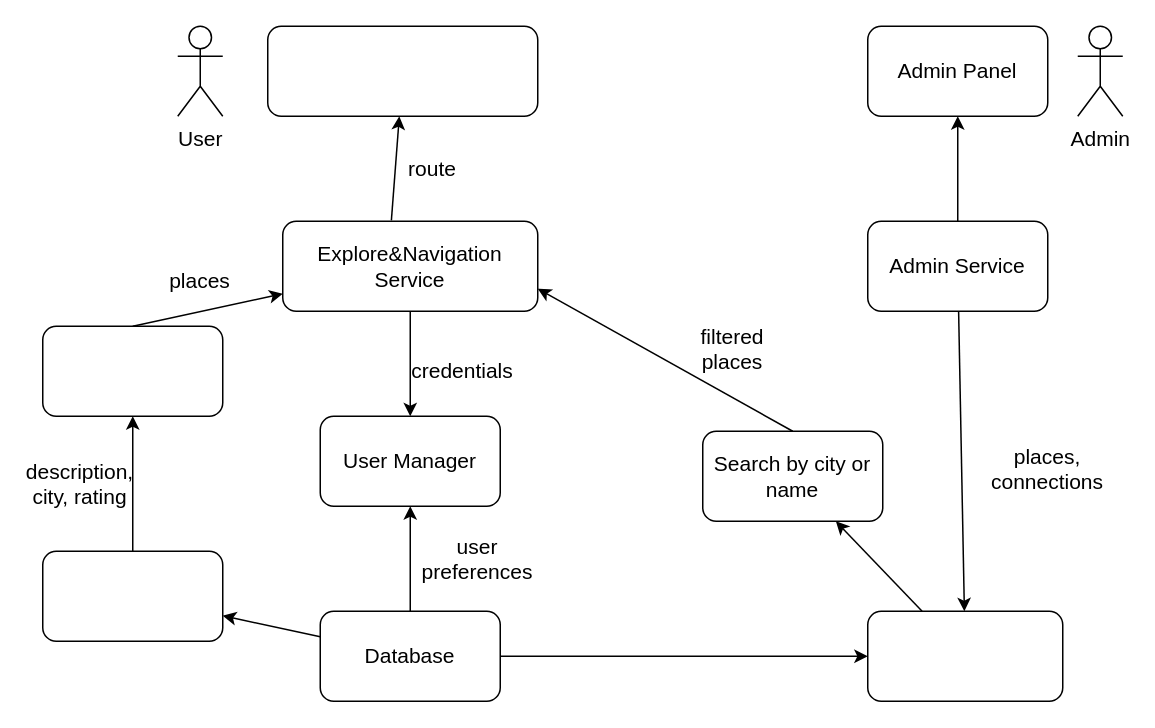
This 1155x728 diagram has some shape labels left out. Here are the shapes that lost their labels. From the top down, the centre of each, then its label:
the point at 402,70: ExploreMacedoniaUI
the point at 132,370: Hotels
the point at 132,595: InfoManager
the point at 964,655: Hotels Manager
